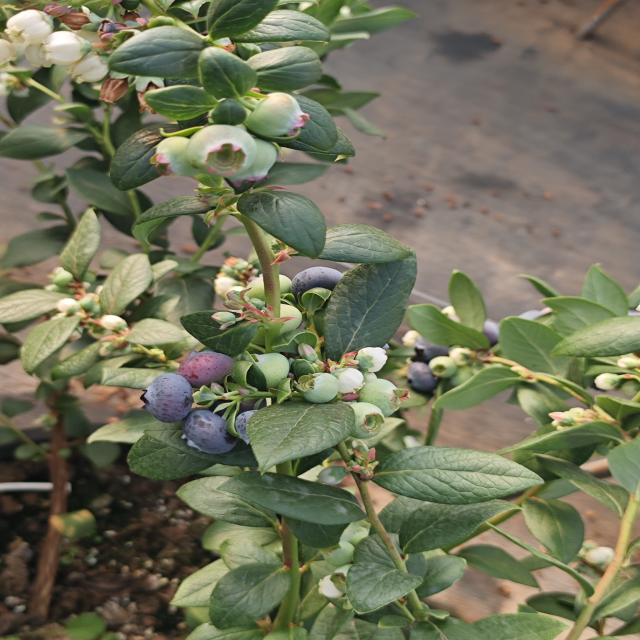ripe: (394, 338, 453, 392), (138, 371, 196, 425), (178, 408, 238, 456), (174, 349, 237, 389), (288, 265, 347, 303), (470, 312, 513, 350)
